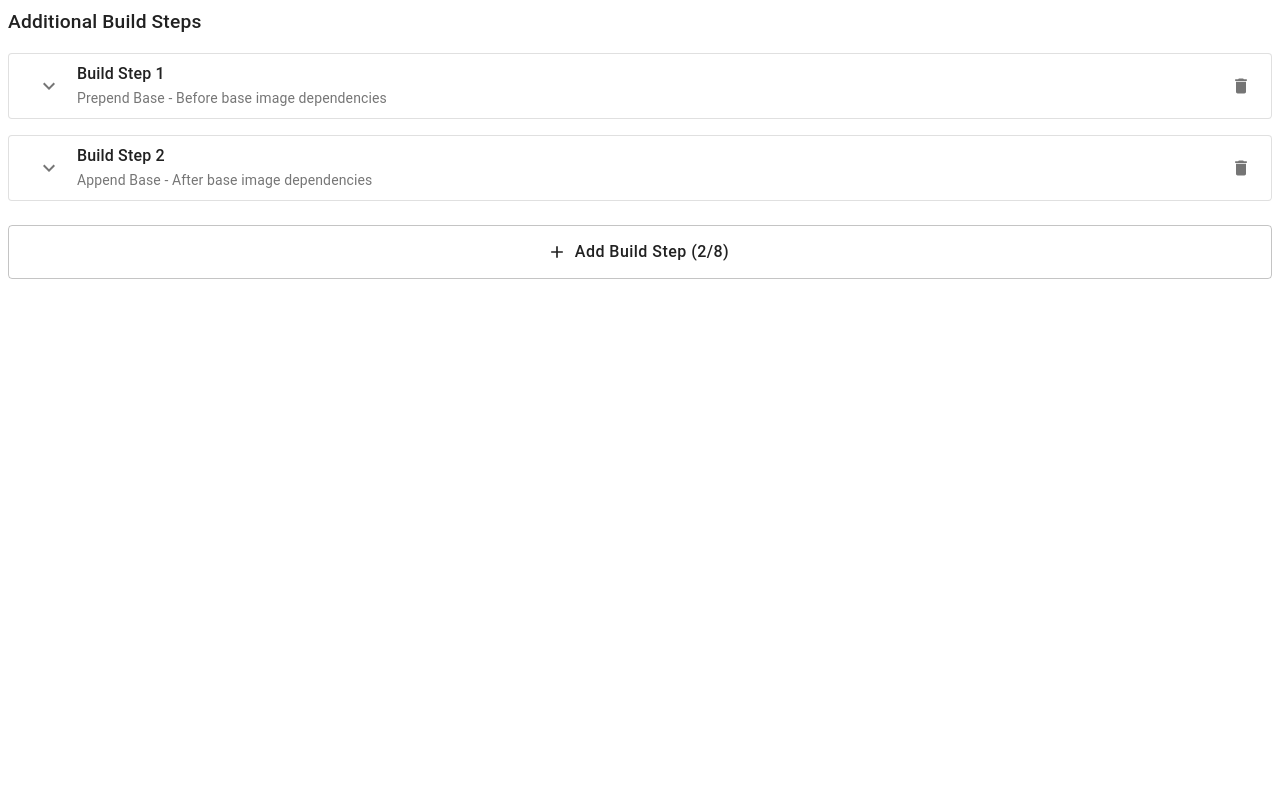
Scenario: AdditionalBuildStepsPickerExtension › getAvailableStepTypes › excludes step types already selected in other steps
The image size is (1280, 800).
Step 1. Click the button "Build Step 1 Prepend Base - Before base image dependencies" → [116, 74], box top-left (9, 54), bottom-right (1271, 118)
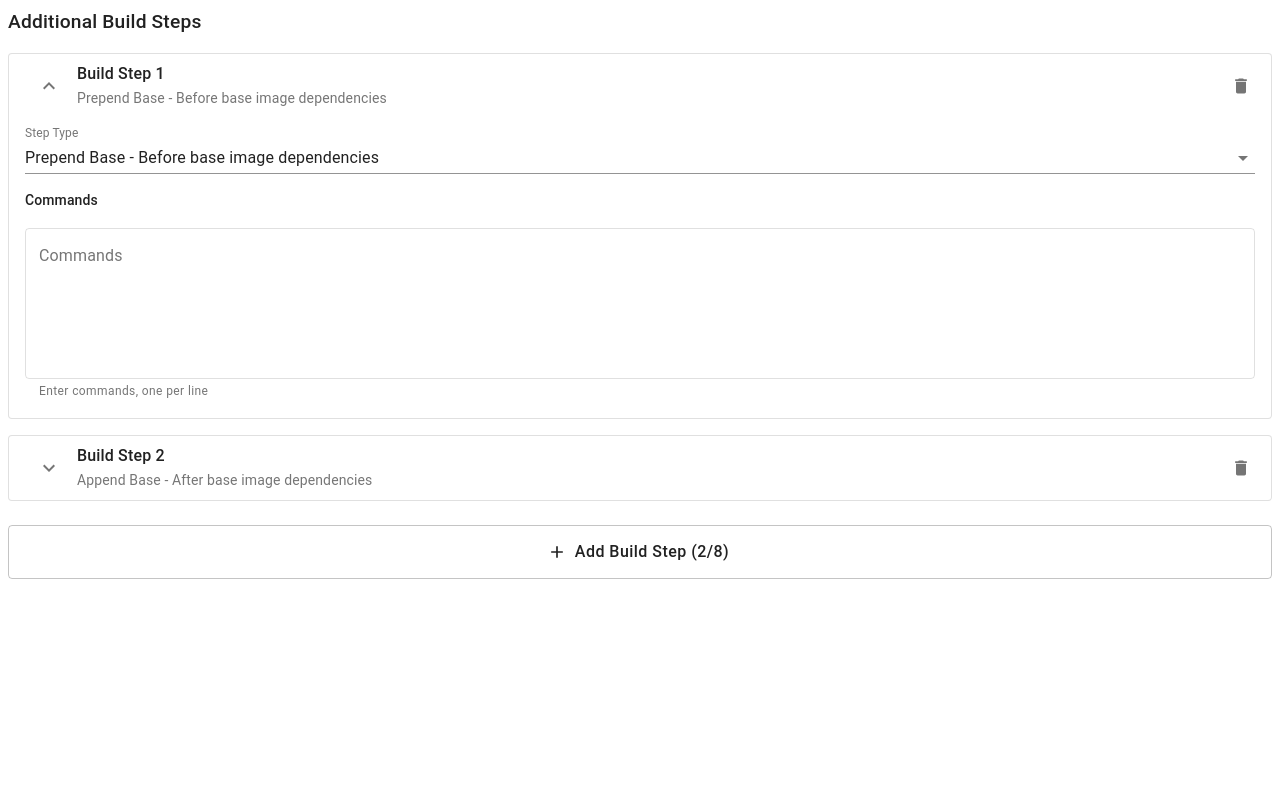
Step 2. Press the mouse on the button "Prepend Base - Before base image dependencies" → [202, 157], box top-left (25, 148), bottom-right (379, 167)
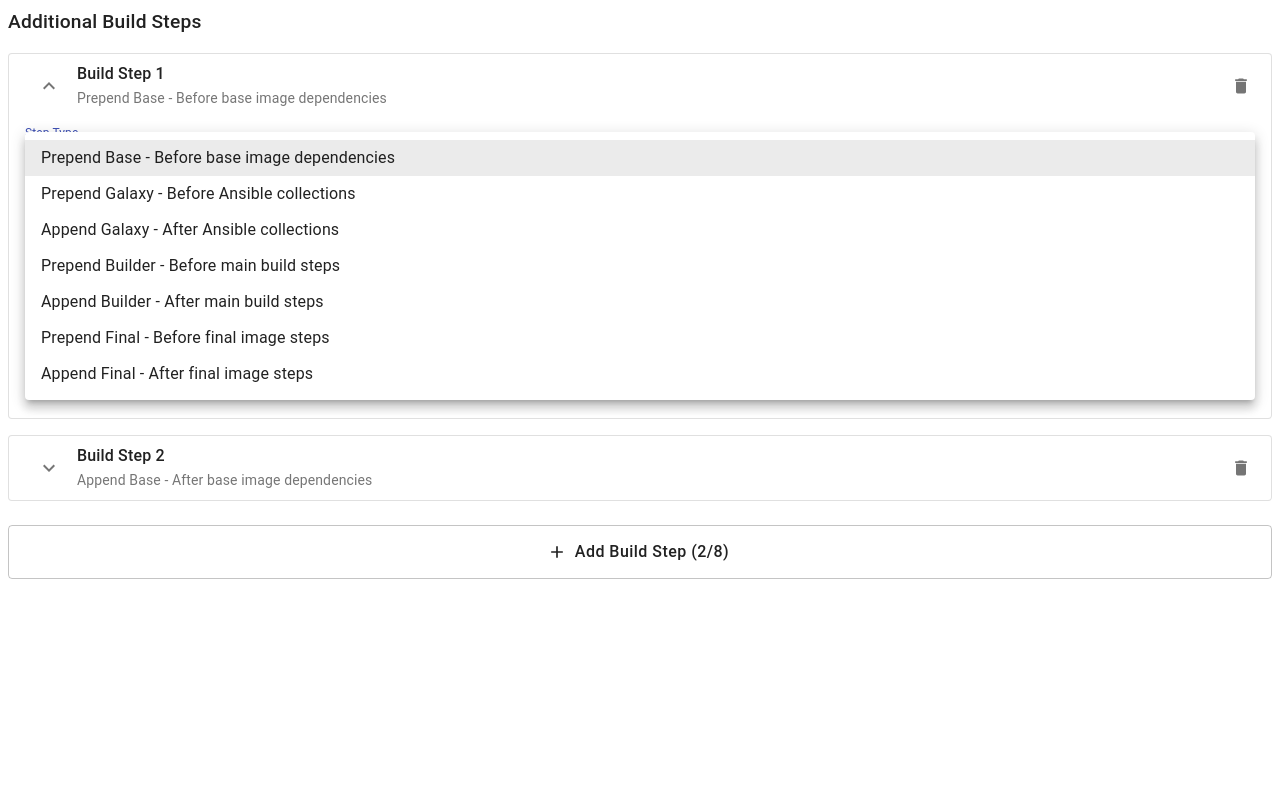
Expected: the text "Prepend Base - Before base image dependencies" is shown, top-left (77, 90), bottom-right (387, 106)
Result: the option "Prepend Galaxy - Before Ansible collections" is shown at top-left (41, 184), bottom-right (356, 203)
